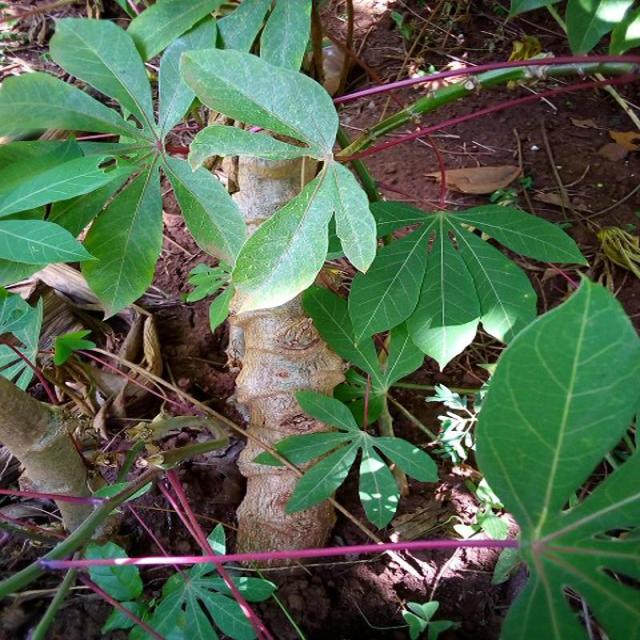cassava leaf: (474, 272, 638, 543), (178, 45, 340, 157)
